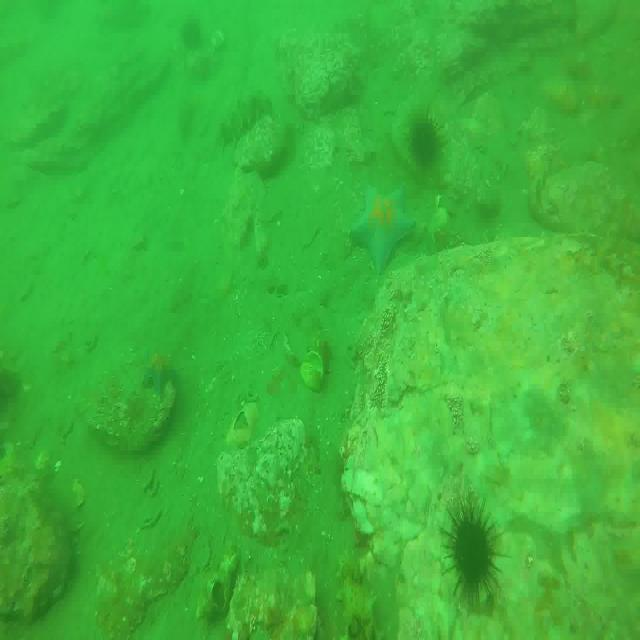echinus: (448, 502, 497, 598), (410, 117, 445, 168), (179, 16, 204, 50)
holothurian: (218, 89, 274, 146)
starfish: (351, 182, 414, 275), (135, 341, 178, 397)
